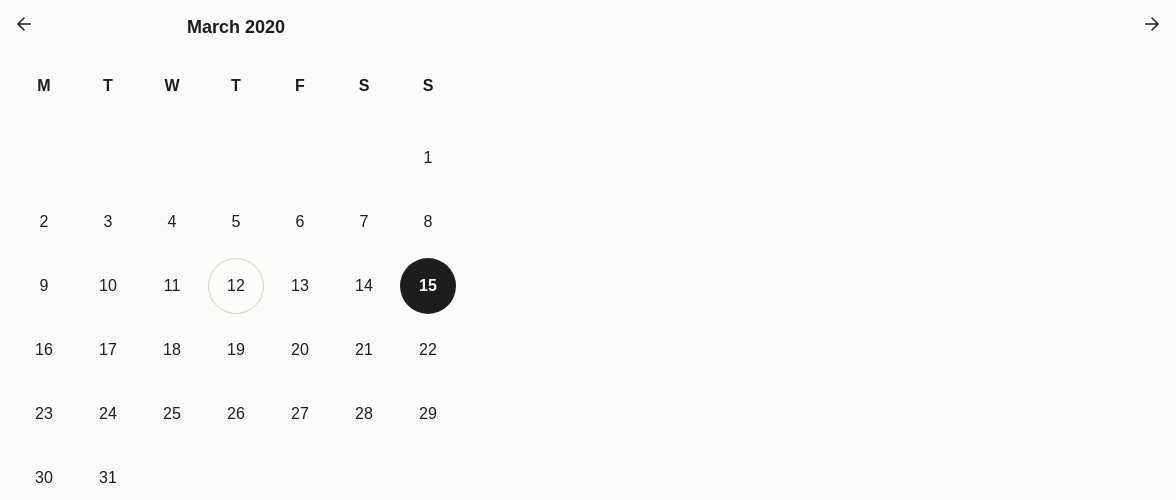
Test: navigation › should navigate to the previous month
This screenshot has width=1176, height=500.
Click the 1st button named "previous month". click: (24, 24)
box: [12,12,36,36]
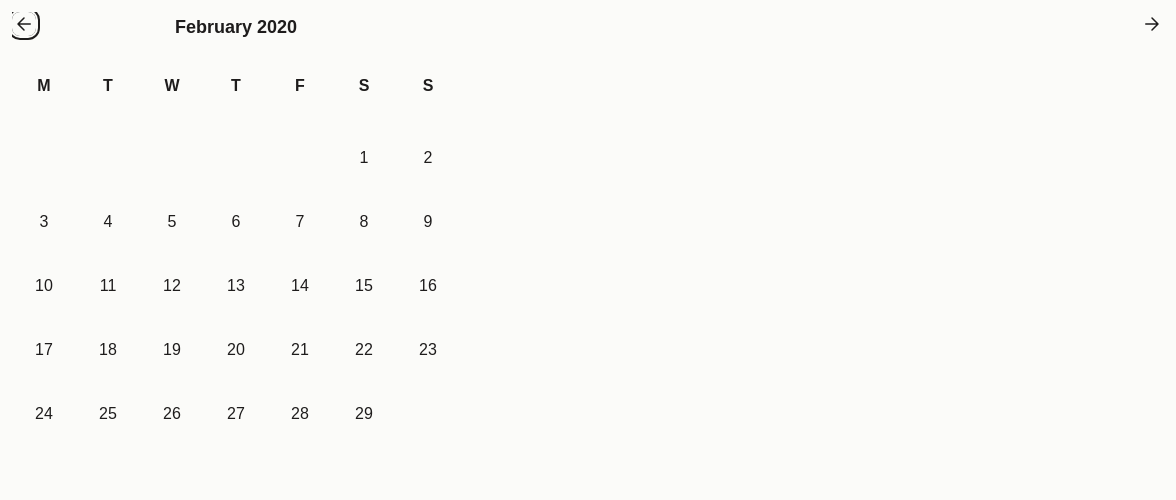
Check: the heading "February 2020" is shown, box [175,17,297,37]
